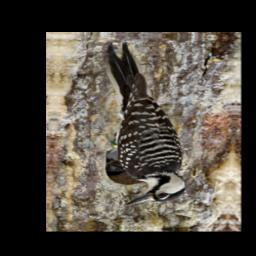Woodpecker: (93, 40, 197, 208)
